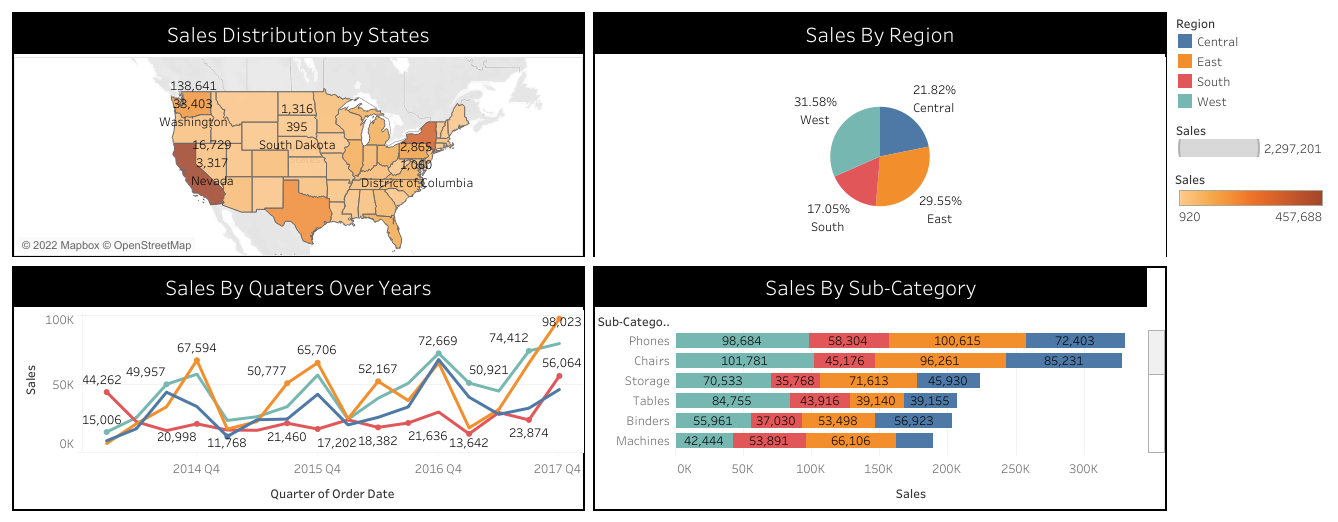

The dashboard page shown, as its layout file describes it:
{"tool":"tableau","page":{"name":"Dashboard 1","canvas":[1000,1000],"units":"permille","ordinal":0},"visuals":[{"type":"worksheet","title":"Map ","mark":"Automatic","box":[6.9,13.5,423.8,486.5]},{"type":"worksheet","title":"Pie Chart","mark":"Pie","box":[430.7,13.5,423.8,486.5]},{"type":"legend","title":"Pie Chart","param":"[federated.1mgu5qz1xgtk0r1f7ijo40utfelb].[none:Region:nk]","box":[854.5,13.5,138.5,179.1]},{"type":"legend","title":"Pie Chart","param":"[federated.1mgu5qz1xgtk0r1f7ijo40utfelb].[sum:Sales:qk]","box":[854.5,192.6,138.5,77.7]},{"type":"legend","title":"Map ","param":"[federated.1mgu5qz1xgtk0r1f7ijo40utfelb].[sum:Sales:qk]","box":[854.5,270.3,138.5,109.8]},{"type":"worksheet","title":"Line Chart","mark":"Automatic","rows":["Sales"],"cols":["Order Date"],"box":[6.9,500,423.8,486.5]},{"type":"worksheet","title":"Bar Chart","mark":"Automatic","rows":["Sub-Category"],"cols":["Sales"],"box":[430.7,500,423.8,486.5]}]}

Visuals, with their boxes on the dashboard's canvas, which has no fixed pixel size, in thousandths of its width and height (x1, y1, x2, y2). These are canvas units, not pixel positions in the 1338x522 screenshot, which may show the page scaled, cropped or inside an application window:
"Map " worksheet: 7,14,431,500
"Pie Chart" worksheet (Pie marks): 431,14,854,500
"Pie Chart" legend: 854,14,993,193
"Pie Chart" legend: 854,193,993,270
"Map " legend: 854,270,993,380
"Line Chart" worksheet: 7,500,431,986
"Bar Chart" worksheet: 431,500,854,986
